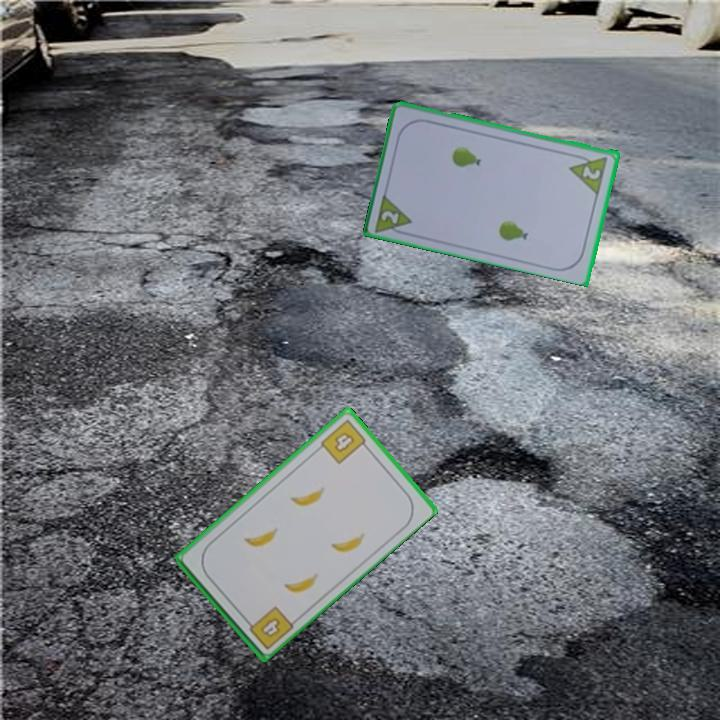2p: (371, 189, 416, 239), (579, 162, 604, 182)
4b: (317, 416, 372, 467), (241, 602, 296, 652)
